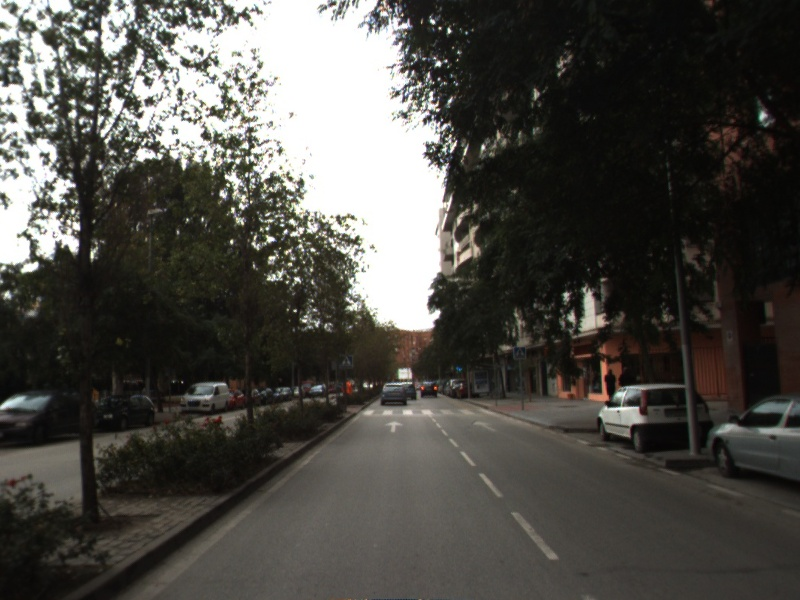STRAIGHT: (470, 418, 500, 433), (382, 419, 406, 434)
